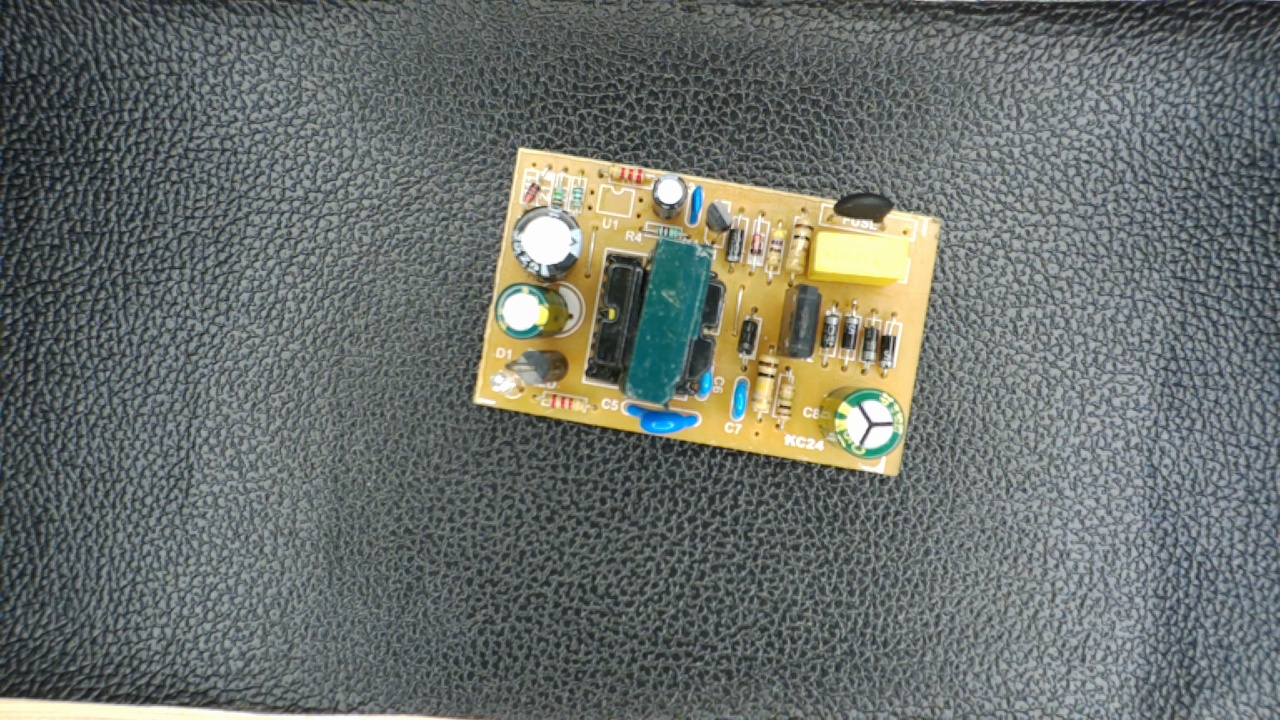fuse: (819, 188, 903, 233)
hv_capacitor: (815, 384, 908, 464)
mov: (618, 398, 704, 437)
